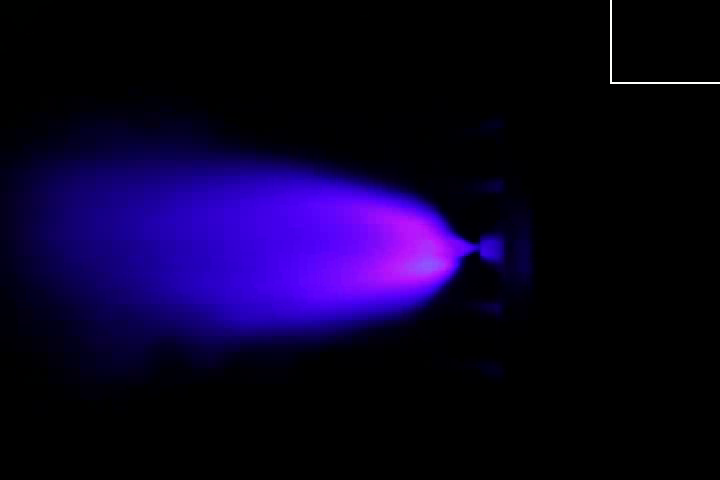burner cap: (479, 227, 505, 269)
unstable: (352, 191, 479, 306)
